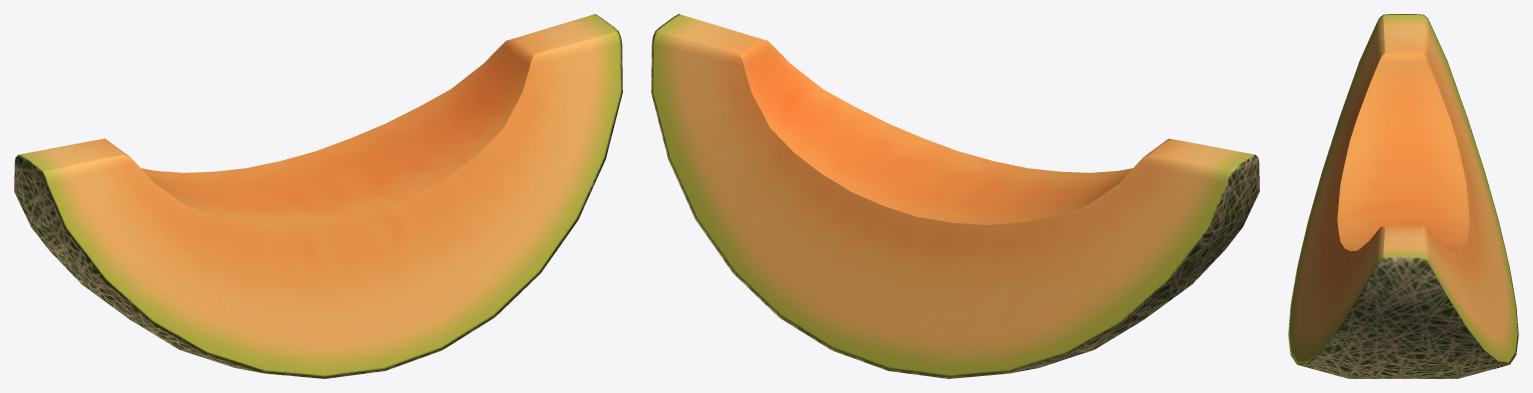
Rendered from SlicedMelon_1.fbx.
3 renders of one model, left to right at view 1: azimuth 30°, elevation 25°; view 2: azimuth 150°, elevation 25°; view 3: azimuth 270°, elevation 25°, orthographic. The views are drawn at different scales.
Parts seen in each view (by area): view 1: SlicedMelon_1; view 2: SlicedMelon_1; view 3: SlicedMelon_1.
Boxes of the visible parts, x1,y1,x2,y2 form: SlicedMelon_1: [14, 14, 622, 378]; SlicedMelon_1: [651, 14, 1259, 378]; SlicedMelon_1: [1288, 14, 1518, 378].
Size of the model in its own units: 95.11 by 39.11 by 38.04.
Materials: 1 (1 with a texture image).
